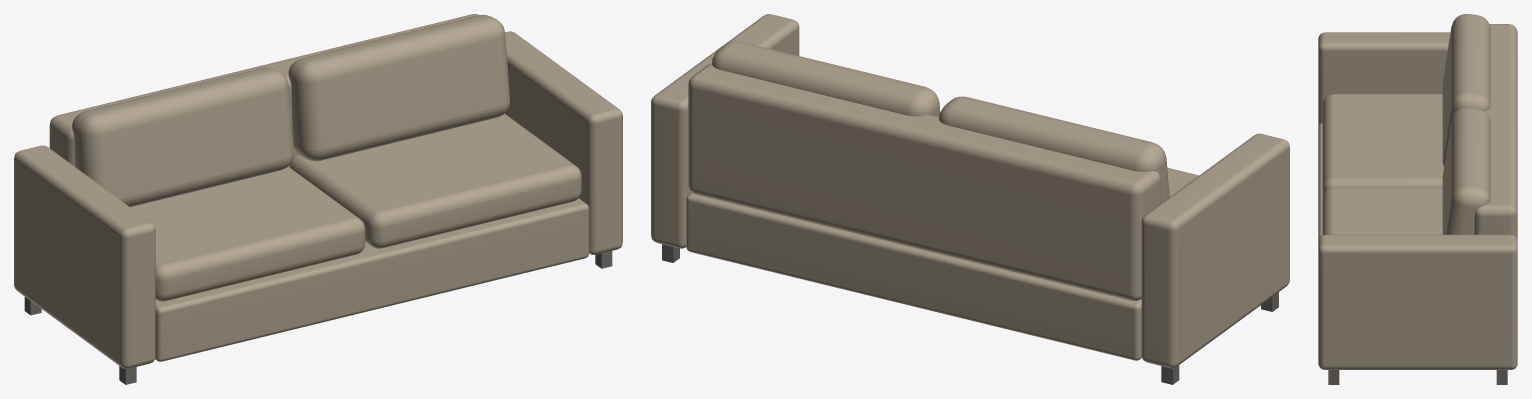
The model's file is hotel-lobby-sofa.glb.
3 renders of one model, left to right at view 1: azimuth 30°, elevation 25°; view 2: azimuth 150°, elevation 25°; view 3: azimuth 270°, elevation 25°, orthographic. The views are drawn at different scales.
Parts seen in each view (by area): view 1: base, back_cushion1, arm.001, seat1, back_cushion0, seat0, arm, back; view 2: back, base, arm.001, arm, back_cushion0, back_cushion1; view 3: arm, seat0, arm.001, back, seat1, back_cushion1, back_cushion0, base.
Boxes of the visible parts, box(x1,y1,x2,y2) form: base: box(155, 198, 589, 361); back_cushion1: box(288, 14, 509, 161); arm.001: box(14, 145, 155, 368); seat1: box(290, 113, 581, 248); back_cushion0: box(72, 67, 293, 207); seat0: box(130, 166, 365, 301); arm: box(505, 31, 622, 254); back: box(49, 14, 478, 167); back: box(688, 63, 1160, 300); base: box(686, 192, 1141, 360); arm.001: box(1141, 133, 1289, 368); arm: box(651, 14, 799, 248); back_cushion0: box(939, 96, 1169, 203); back_cushion1: box(712, 41, 940, 116); arm: box(1318, 234, 1517, 369); seat0: box(1322, 94, 1443, 197); arm.001: box(1318, 32, 1450, 126); back: box(1474, 24, 1517, 239); seat1: box(1322, 187, 1442, 234); back_cushion1: box(1442, 107, 1490, 234); back_cushion0: box(1442, 14, 1490, 166); base: box(1318, 123, 1322, 239).
Bounding box in the file's own units: 2.32 × 0.8907 × 0.9.
Materials: 2 (1 with a texture image).
